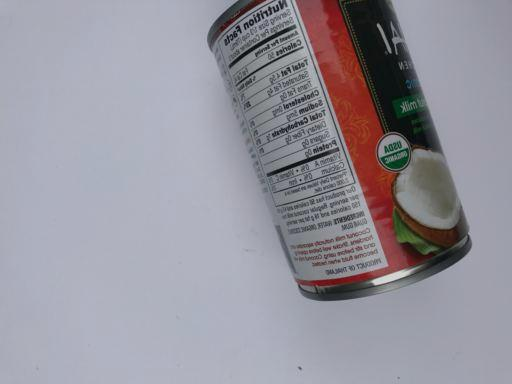metal: (207, 5, 473, 305)
plastic: (207, 2, 473, 305)
